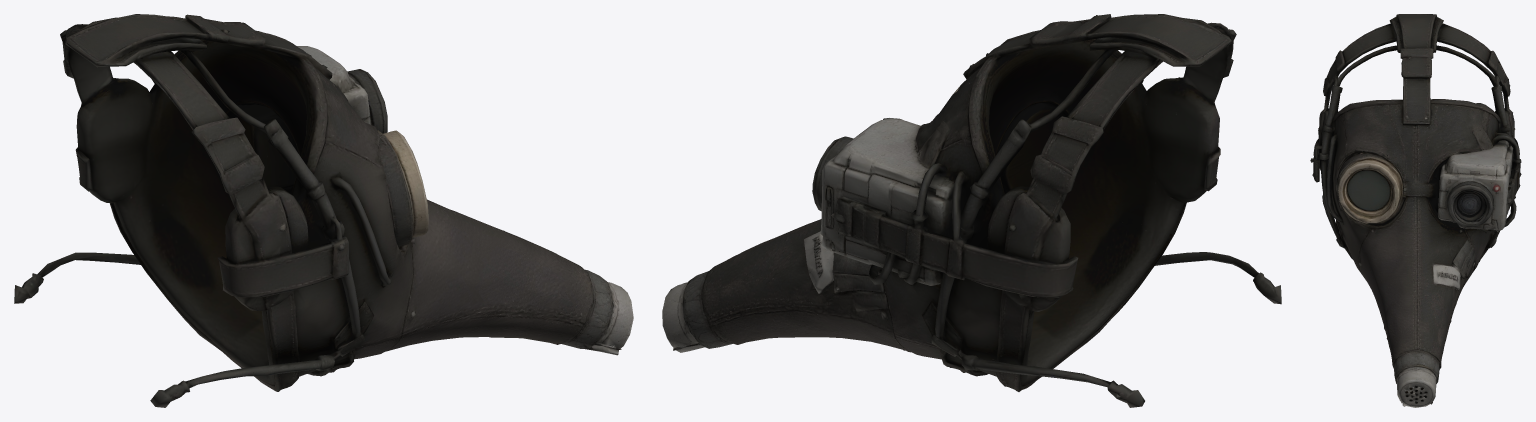
File: maschera.glb
3 renders of one model, left to right at view 1: azimuth 30°, elevation 25°; view 2: azimuth 150°, elevation 25°; view 3: azimuth 270°, elevation 25°, orthographic. The views are drawn at different scales.
Parts seen in each view (by area): view 1: tripo_node_8d0790e1-3cdd-4d33-ba3d-1c789de90edf; view 2: tripo_node_8d0790e1-3cdd-4d33-ba3d-1c789de90edf; view 3: tripo_node_8d0790e1-3cdd-4d33-ba3d-1c789de90edf.
Part boxes in pixels (x1,y1,x2,y2): tripo_node_8d0790e1-3cdd-4d33-ba3d-1c789de90edf: (14,14,633,407); tripo_node_8d0790e1-3cdd-4d33-ba3d-1c789de90edf: (662,14,1281,407); tripo_node_8d0790e1-3cdd-4d33-ba3d-1c789de90edf: (1310,14,1521,407).
Bounding box in the file's own units: 0.4541 × 0.35 × 0.2647.
1 material, 1 textured.
